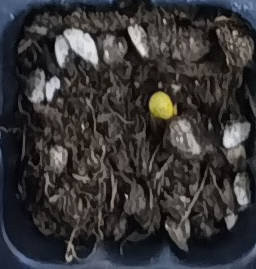pepper seed: (60, 29, 236, 149)
